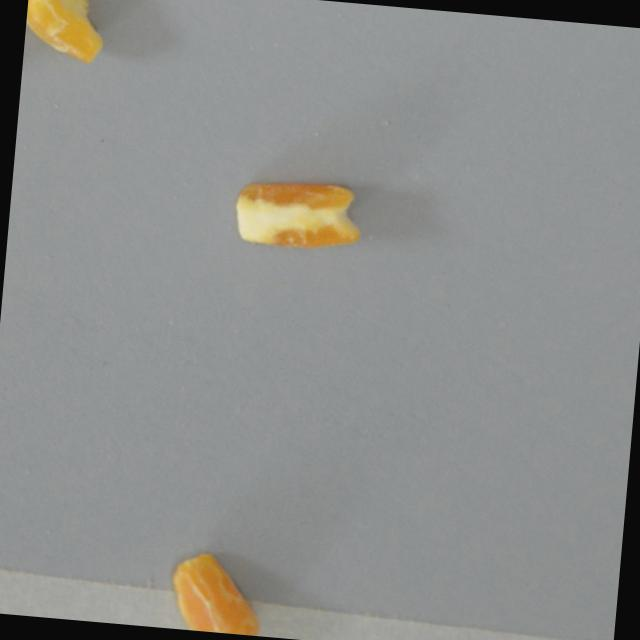pelicula: (231, 175, 367, 254), (162, 547, 264, 636), (21, 0, 107, 69)
